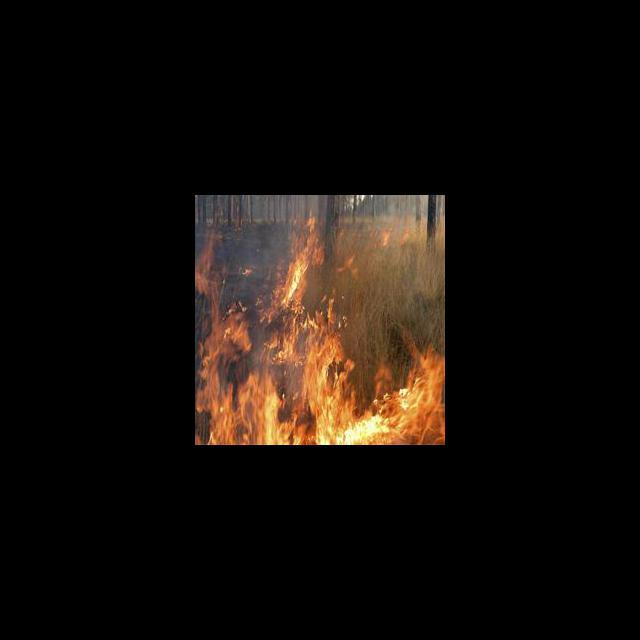Fire: (196, 210, 445, 444)
